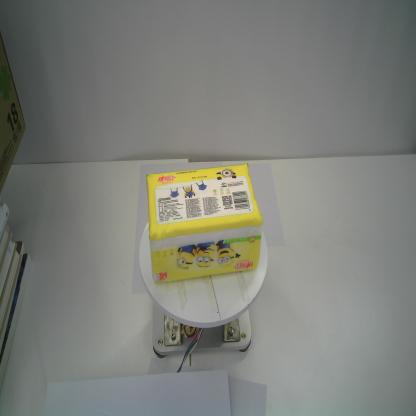Tissue: (145, 162, 265, 286)
